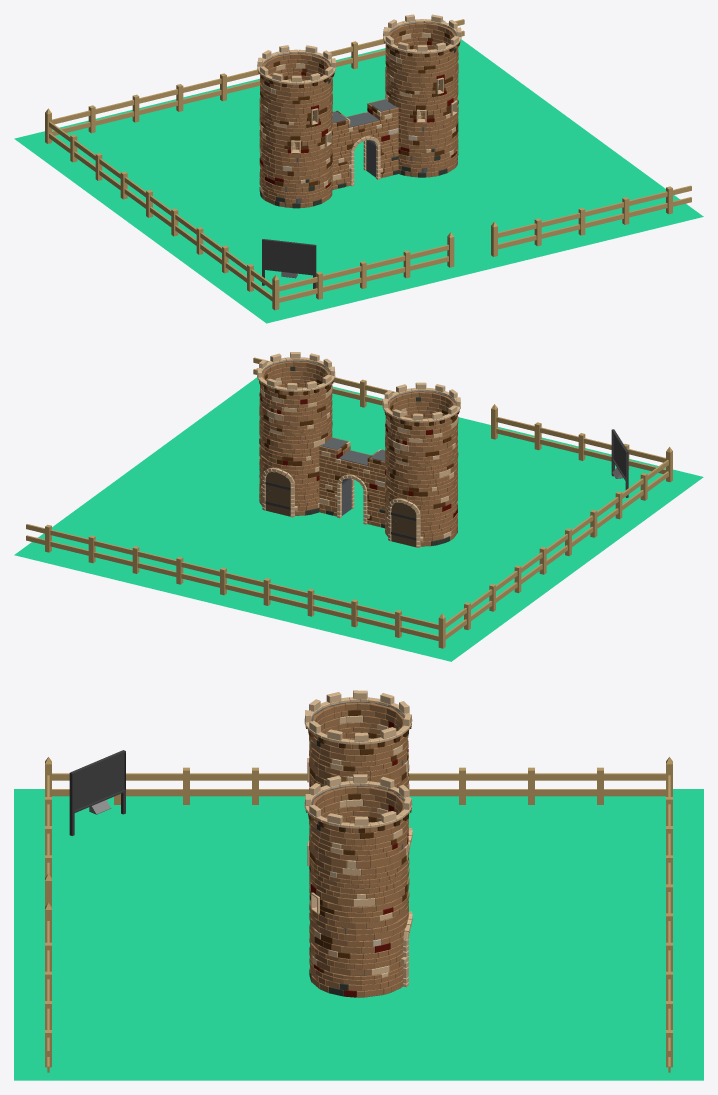
The model's file is region-1.glb.
The picture shows the model from 3 angles, top to bottom: view 1: azimuth 30°, elevation 25°; view 2: azimuth 150°, elevation 25°; view 3: azimuth 270°, elevation 25°; orthographic projection. The views are drawn at different scales.
Visible parts, largest first — view 1: base, wall-section-with-doorway, top-section-with-crenellation, top-section-with-crenellation.001, base-section-with-doorway, mid-section-with-three-slits, mid-section-with-three-slits.001, base-section-with-doorway.001, fence-mid-piece-x5.002, fence-mid-piece-x5.001, fence-mid-piece-x3.003, fence-mid-piece-x3 (+6 smaller); view 2: base, wall-section-with-doorway, top-section-with-crenellation, top-section-with-crenellation.001, mid-section-with-three-slits, mid-section-with-three-slits.001, fence-mid-piece-x5.002, base-section-with-doorway, fence-mid-piece-x4, fence-mid-piece-x5.001, base-section-with-doorway.001, fence-mid-piece-x3 (+7 smaller); view 3: base, top-section-with-crenellation.001, top-section-with-crenellation, mid-section-with-three-slits.001, base-section-with-doorway.001, fence-mid-piece-x3.001, fence-mid-piece-x5.001, info-board-assembly-large, mid-section-with-three-slits, fence-mid-piece-x5.002, fence-mid-piece-x4, fence-corner-piece.001 (+1 smaller).
Part boxes in pixels (bbox=[...]): base: bbox=[14, 39, 703, 323]; wall-section-with-doorway: bbox=[332, 99, 398, 189]; top-section-with-crenellation: bbox=[257, 45, 335, 108]; top-section-with-crenellation.001: bbox=[383, 14, 461, 77]; base-section-with-doorway: bbox=[259, 142, 332, 208]; mid-section-with-three-slits: bbox=[259, 79, 332, 158]; mid-section-with-three-slits.001: bbox=[385, 49, 458, 127]; base-section-with-doorway.001: bbox=[398, 111, 458, 177]; fence-mid-piece-x5.002: bbox=[70, 69, 259, 133]; fence-mid-piece-x5.001: bbox=[136, 185, 263, 293]; fence-mid-piece-x3.003: bbox=[516, 196, 647, 246]; fence-mid-piece-x3: bbox=[297, 249, 429, 299]; base: bbox=[14, 377, 703, 661]; wall-section-with-doorway: bbox=[319, 437, 385, 528]; top-section-with-crenellation: bbox=[382, 382, 460, 446]; top-section-with-crenellation.001: bbox=[256, 352, 335, 415]; mid-section-with-three-slits: bbox=[385, 417, 458, 496]; mid-section-with-three-slits.001: bbox=[259, 387, 332, 465]; fence-mid-piece-x5.002: bbox=[201, 566, 420, 637]; base-section-with-doorway: bbox=[385, 481, 457, 547]; fence-mid-piece-x4: bbox=[26, 524, 201, 584]; fence-mid-piece-x5.001: bbox=[530, 468, 657, 576]; base-section-with-doorway.001: bbox=[259, 452, 319, 517]; fence-mid-piece-x3: bbox=[516, 421, 647, 469]; base: bbox=[14, 789, 703, 1080]; top-section-with-crenellation.001: bbox=[304, 774, 412, 860]; top-section-with-crenellation: bbox=[304, 690, 412, 776]; mid-section-with-three-slits.001: bbox=[307, 821, 409, 929]; base-section-with-doorway.001: bbox=[309, 910, 412, 997]; fence-mid-piece-x3.001: bbox=[428, 767, 634, 804]; fence-mid-piece-x5.001: bbox=[114, 767, 427, 804]; info-board-assembly-large: bbox=[69, 750, 125, 835]; mid-section-with-three-slits: bbox=[307, 738, 409, 826]; fence-mid-piece-x5.002: bbox=[666, 788, 672, 942]; fence-mid-piece-x4: bbox=[666, 934, 672, 1072]; fence-corner-piece.001: bbox=[635, 757, 672, 796].
Bounding box in the file's own units: 20 × 5.77 × 20.
